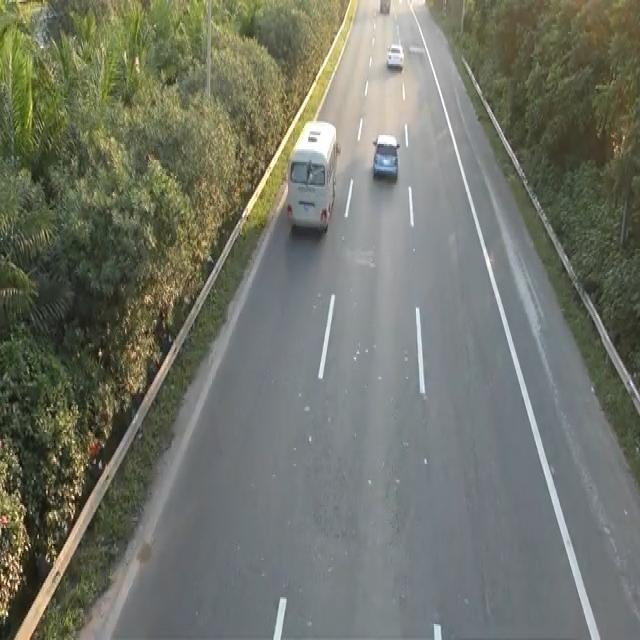bus: (371, 132, 400, 182)
jeep: (284, 116, 341, 237)
